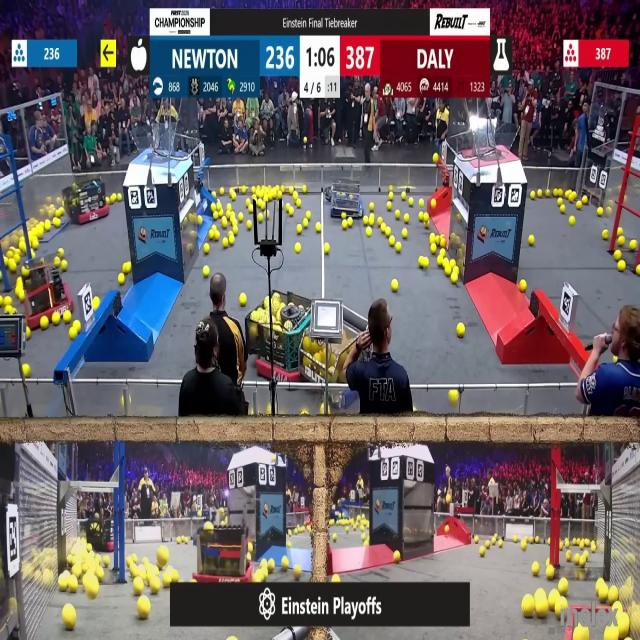ball_airborne: (432, 152, 438, 162)
ball_ground: (64, 606, 76, 630), (138, 598, 150, 620), (522, 597, 534, 617), (87, 582, 100, 600), (536, 600, 548, 618), (596, 582, 606, 602), (134, 577, 145, 595), (558, 580, 568, 596), (160, 548, 170, 564), (574, 628, 587, 640), (150, 581, 160, 595), (68, 580, 78, 594), (549, 592, 559, 606), (608, 588, 617, 603), (253, 569, 264, 581), (40, 316, 49, 329), (450, 390, 459, 403), (164, 572, 172, 586), (63, 312, 72, 324), (61, 578, 68, 593), (457, 323, 465, 336), (23, 363, 31, 376), (292, 565, 300, 578), (532, 562, 539, 576), (545, 567, 553, 579), (54, 314, 62, 326), (172, 570, 180, 582), (122, 264, 130, 275), (70, 328, 78, 339), (394, 552, 401, 564), (240, 292, 247, 304), (391, 280, 398, 292), (282, 558, 289, 570), (117, 274, 124, 286), (269, 559, 276, 571), (98, 568, 105, 580), (556, 604, 562, 618), (618, 237, 626, 247), (619, 262, 626, 273), (630, 240, 637, 251), (419, 256, 426, 267), (94, 296, 101, 307), (131, 565, 138, 576), (263, 566, 270, 577), (520, 280, 526, 292), (429, 244, 436, 254), (616, 250, 623, 260), (9, 263, 16, 273), (445, 267, 452, 277), (9, 598, 16, 608), (569, 191, 576, 201), (204, 267, 210, 278), (331, 574, 339, 582), (388, 238, 395, 247), (578, 557, 585, 566), (230, 237, 237, 246), (316, 222, 322, 232), (602, 231, 608, 241), (204, 244, 210, 254), (569, 215, 575, 225), (452, 274, 458, 284), (26, 327, 32, 337), (528, 236, 534, 246), (436, 256, 442, 266), (74, 320, 80, 330), (62, 262, 68, 272), (18, 291, 24, 301), (104, 556, 110, 566), (566, 553, 572, 563), (32, 239, 38, 249), (385, 228, 391, 238), (596, 208, 603, 216), (4, 296, 11, 304), (4, 306, 11, 314), (324, 243, 329, 254), (222, 239, 228, 248), (378, 216, 384, 225), (365, 229, 371, 238), (395, 243, 401, 252), (288, 207, 294, 216), (419, 212, 425, 221), (209, 232, 215, 241), (221, 218, 227, 227), (258, 201, 264, 210), (441, 239, 447, 248), (443, 257, 449, 266), (430, 235, 436, 244), (363, 215, 368, 225), (294, 244, 299, 254), (348, 217, 353, 227), (522, 540, 527, 550), (481, 545, 486, 555), (248, 542, 253, 552), (4, 256, 9, 266), (56, 257, 61, 267), (401, 231, 407, 239), (560, 206, 566, 214), (430, 201, 436, 209), (618, 227, 624, 235), (575, 202, 581, 210), (530, 190, 536, 198), (238, 213, 244, 221), (536, 189, 542, 197), (211, 204, 217, 212), (198, 216, 204, 224), (363, 539, 369, 547), (544, 188, 550, 196), (342, 220, 348, 228), (557, 199, 563, 207), (454, 268, 460, 276), (232, 216, 238, 224), (303, 185, 309, 193), (403, 213, 408, 222), (368, 203, 373, 212), (395, 210, 400, 219), (60, 248, 65, 257), (234, 225, 239, 234), (381, 224, 386, 233), (111, 192, 116, 201), (232, 190, 237, 199), (306, 211, 312, 218), (286, 540, 292, 547), (331, 534, 337, 541), (554, 188, 560, 195), (387, 203, 392, 211), (636, 266, 640, 276), (247, 220, 252, 228), (386, 194, 391, 202), (304, 220, 309, 228), (400, 191, 405, 199), (249, 206, 254, 214), (424, 213, 429, 221), (445, 526, 450, 534), (441, 248, 446, 256), (225, 204, 230, 212), (218, 210, 223, 218), (361, 533, 366, 541), (451, 258, 456, 266), (216, 204, 221, 212), (143, 557, 148, 565), (219, 187, 224, 195), (133, 555, 138, 563), (268, 408, 272, 418), (244, 201, 249, 209), (258, 213, 262, 222), (420, 200, 424, 209), (296, 224, 300, 233), (0, 295, 4, 304), (320, 408, 324, 417), (473, 535, 478, 542), (584, 198, 589, 205), (342, 213, 347, 220), (514, 535, 519, 542), (212, 223, 217, 230), (212, 189, 217, 196), (487, 540, 492, 547), (247, 554, 252, 561), (120, 194, 124, 202), (499, 539, 503, 547), (560, 541, 564, 549), (278, 194, 282, 202), (252, 193, 256, 201), (492, 538, 497, 544), (544, 559, 549, 565), (410, 200, 414, 207), (214, 212, 218, 219), (296, 201, 300, 208), (615, 356, 619, 363), (294, 195, 298, 202), (177, 537, 180, 543)
goal: (464, 121, 522, 160), (129, 130, 189, 160)
robot_blue: (297, 334, 351, 404), (326, 166, 366, 218)
robot_red: (250, 292, 308, 383), (194, 524, 247, 586), (22, 255, 70, 317), (62, 177, 108, 225)
